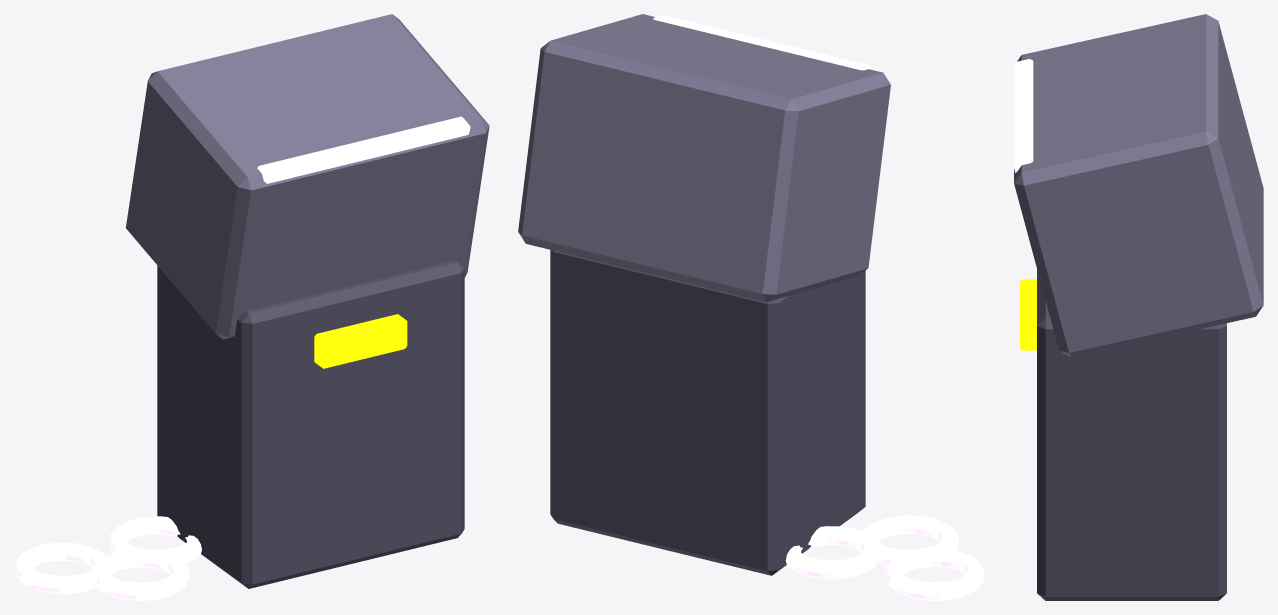
File: prop_terminal_omnicripto.glb
3 renders of one model, left to right at view 1: azimuth 30°, elevation 25°; view 2: azimuth 150°, elevation 25°; view 3: azimuth 270°, elevation 25°, orthographic. The views are drawn at different scales.
Visible parts, largest first — view 1: Term_Pedestal, Term_Head, Term_CRTScreen, Term_CartSlot, Nerve_Loop_2, Nerve_Loop_3, Nerve_Loop_1; view 2: Term_Pedestal, Term_Head, Nerve_Loop_3, Nerve_Loop_1, Nerve_Loop_2, Term_CRTScreen; view 3: Term_Head, Term_Pedestal, Term_CRTScreen, Term_CartSlot.
Part boxes in pixels (x1,y1,x2,y2): Term_Pedestal: [157, 260, 464, 588]; Term_Head: [126, 14, 489, 339]; Term_CRTScreen: [257, 116, 470, 183]; Term_CartSlot: [314, 314, 407, 368]; Nerve_Loop_2: [96, 549, 189, 600]; Nerve_Loop_3: [14, 542, 106, 594]; Nerve_Loop_1: [108, 516, 201, 563]; Term_Pedestal: [550, 250, 865, 575]; Term_Head: [518, 14, 890, 302]; Nerve_Loop_3: [885, 548, 984, 600]; Nerve_Loop_1: [785, 526, 879, 578]; Nerve_Loop_2: [863, 515, 958, 565]; Term_CRTScreen: [653, 14, 871, 70]; Term_Head: [1014, 14, 1263, 357]; Term_Pedestal: [1037, 269, 1226, 600]; Term_CRTScreen: [1013, 59, 1033, 172]; Term_CartSlot: [1020, 279, 1036, 350].
Bounding box in the file's own units: 1.41 × 1.55 × 0.7372.
